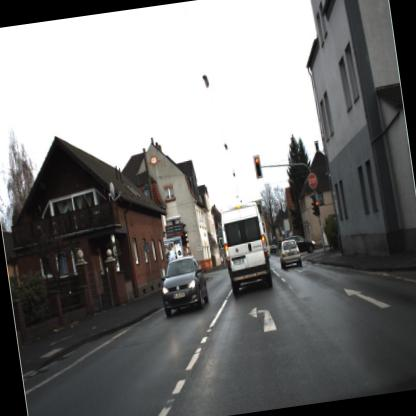other: (303, 169, 320, 192)
